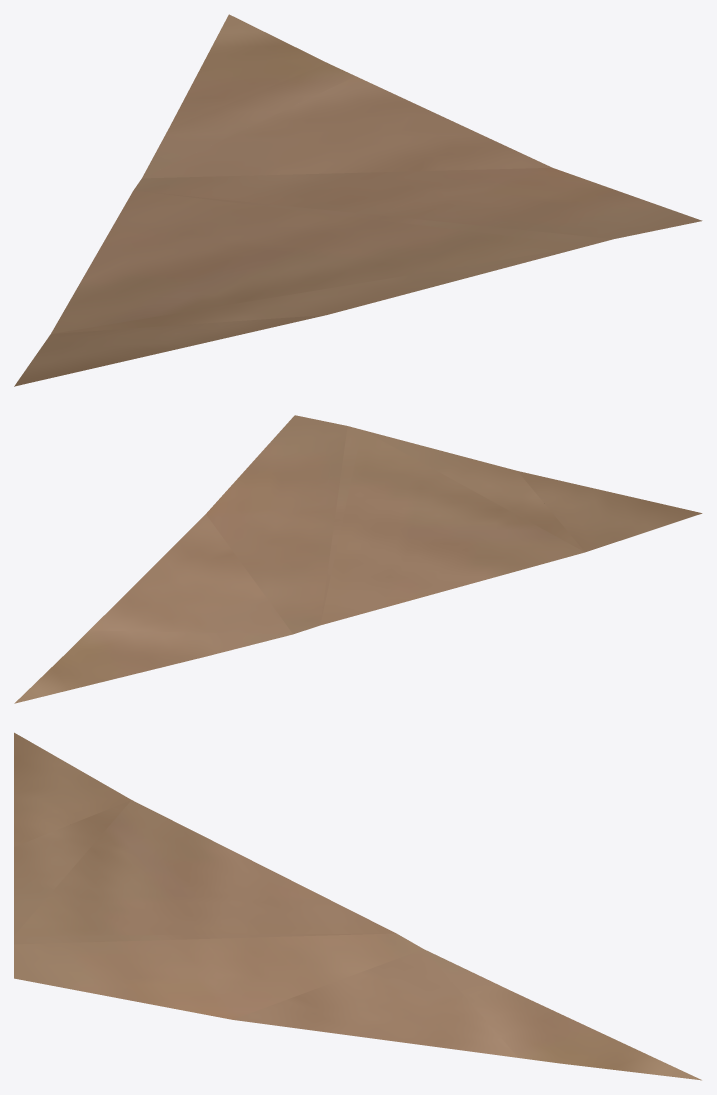
3 renders of one model, top to bottom at view 1: azimuth 30°, elevation 25°; view 2: azimuth 150°, elevation 25°; view 3: azimuth 270°, elevation 25°, orthographic. The views are drawn at different scales.
Size of the model in its own units: 0.3141 by 0.0626 by 0.3743.
Materials: 1 (1 with a texture image).
